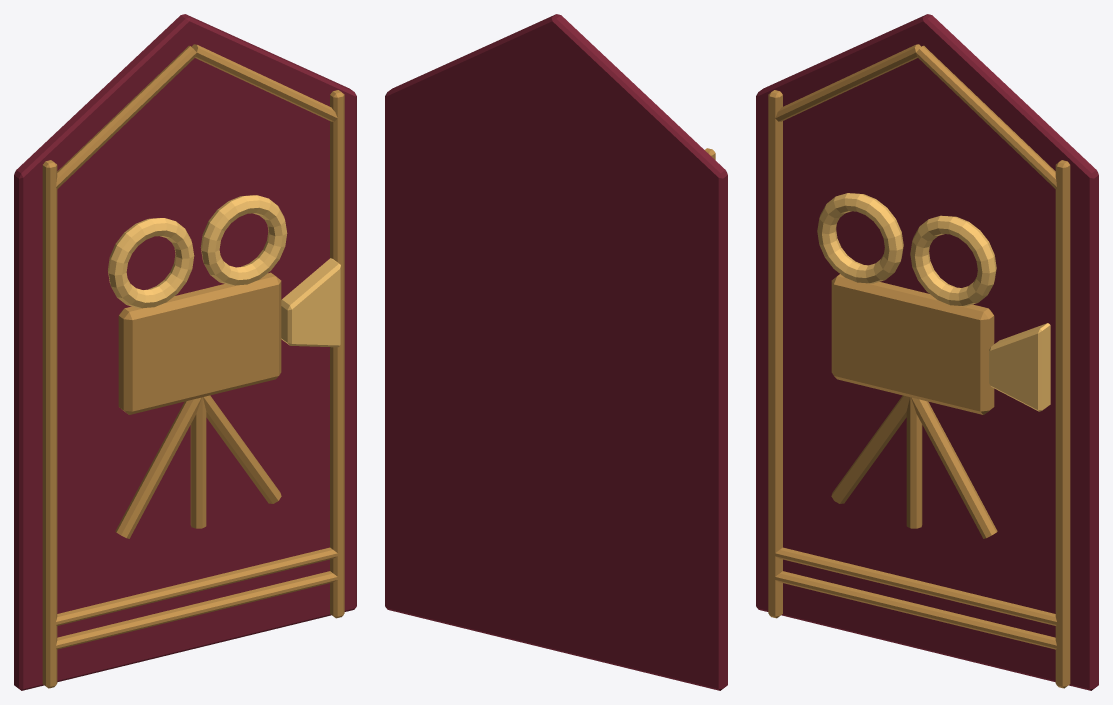
File: SM_Stage3_CameraBanner.fbx
3 renders of one model, left to right at view 1: azimuth 30°, elevation 25°; view 2: azimuth 150°, elevation 25°; view 3: azimuth 330°, elevation 25°, orthographic.
Visible parts, largest first — view 1: SM_Stage3_CameraBanner; view 2: SM_Stage3_CameraBanner; view 3: SM_Stage3_CameraBanner.
Part boxes in pixels (bbox=[...]): SM_Stage3_CameraBanner: bbox=[14, 14, 356, 690]; SM_Stage3_CameraBanner: bbox=[385, 14, 727, 690]; SM_Stage3_CameraBanner: bbox=[756, 14, 1098, 690].
Bounding box in the file's own units: 120 × 16 × 214.
